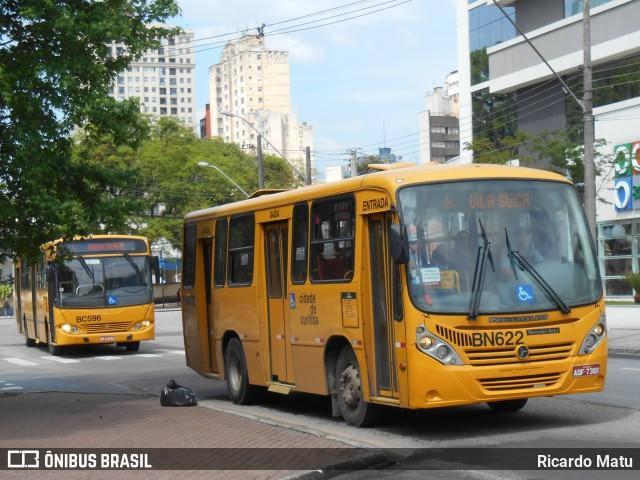VILA SUICA: (463, 188, 538, 212)
